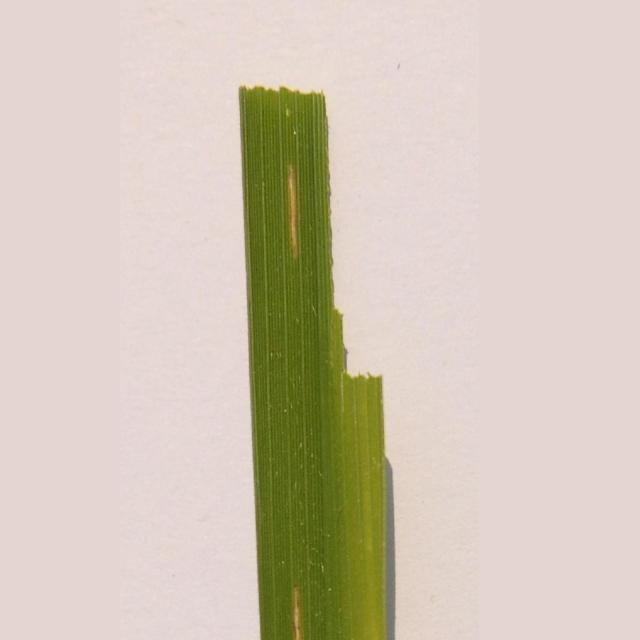Bacterial leaf blight: (275, 153, 314, 270), (288, 579, 321, 640)
